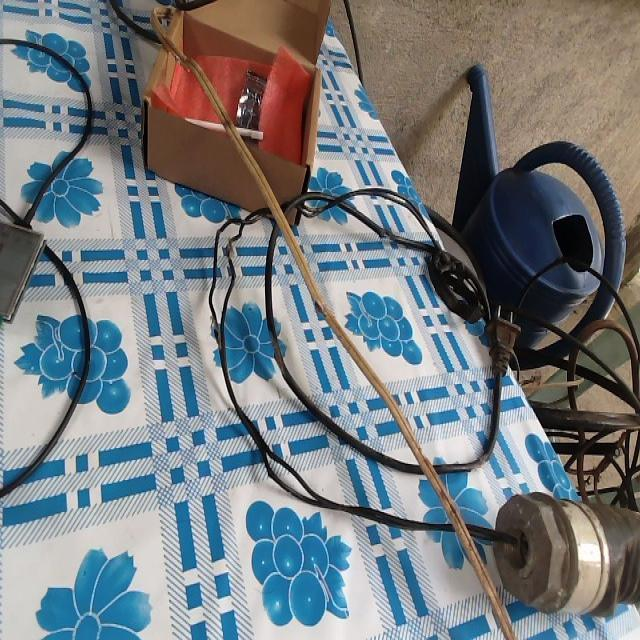-: (268, 331, 283, 373), (314, 296, 322, 311)
